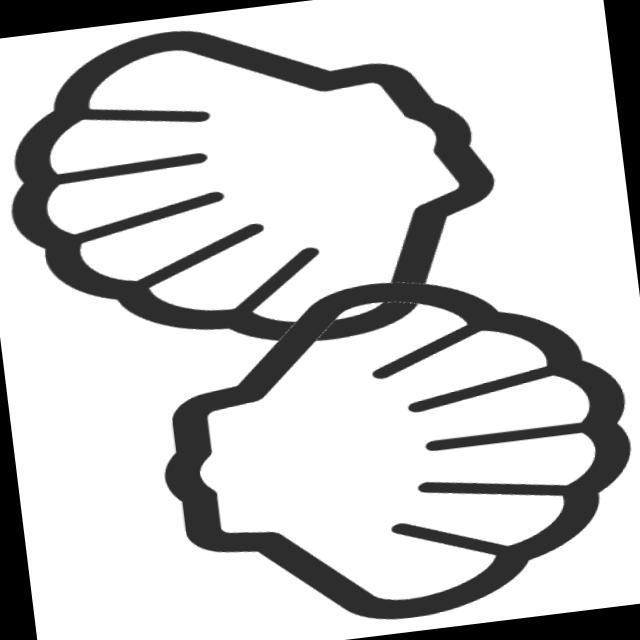shell: (1, 1, 527, 381), (136, 247, 640, 640)
